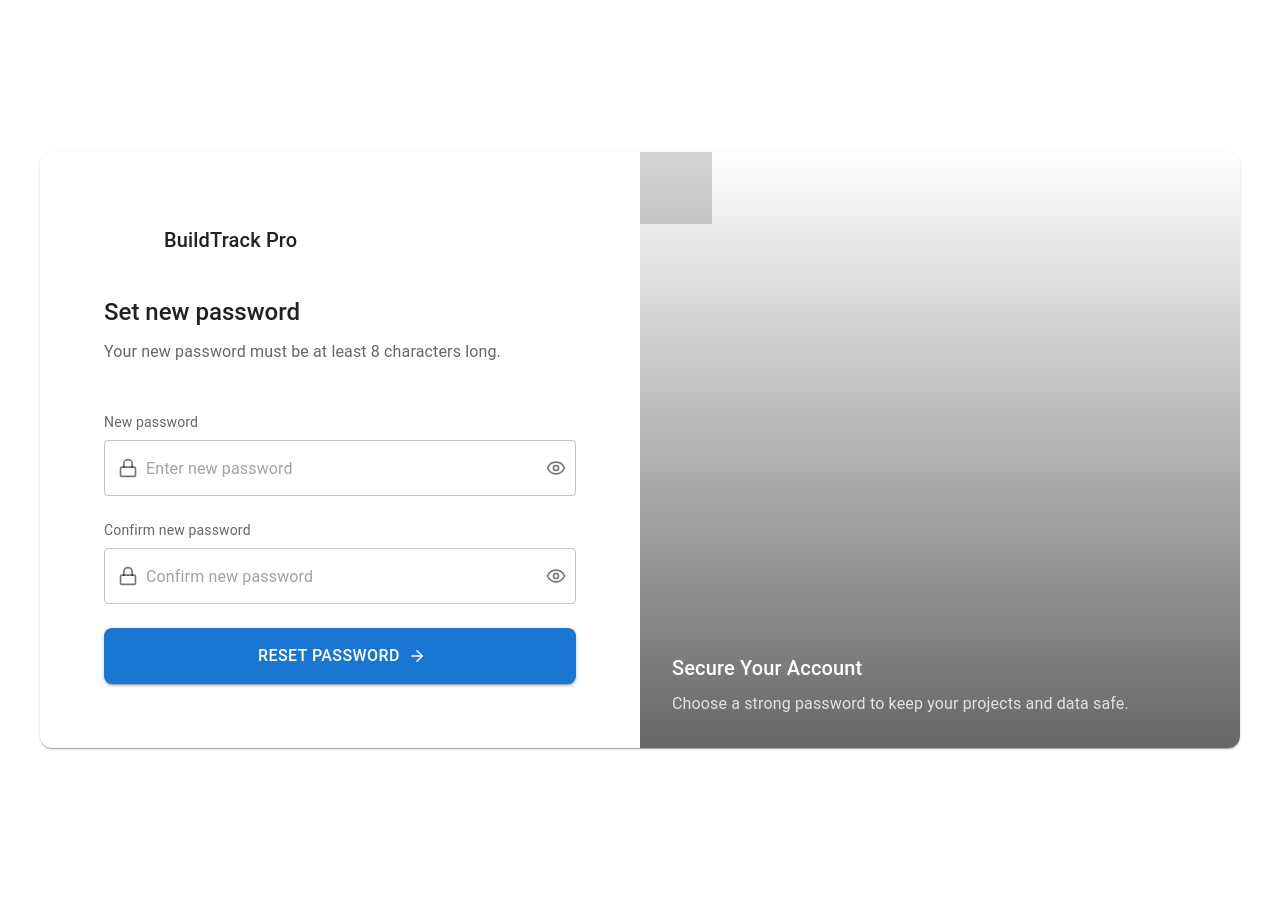
Test: ResetPasswordPage › displays API error message on failure
Type "newpassword123" into the password field labelled "Enter new password" at point(338, 468), box top-left (146, 440), bottom-right (530, 496)
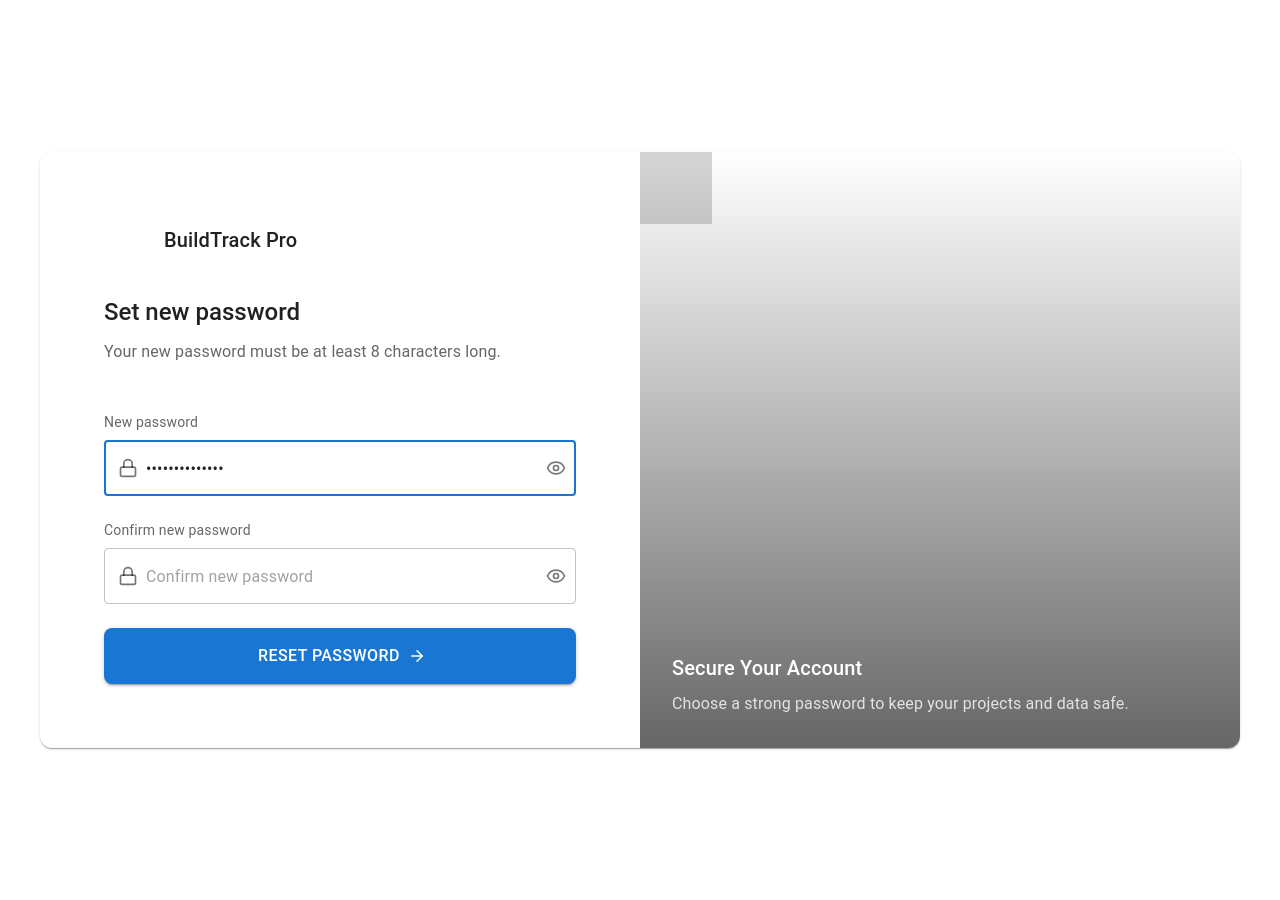
Type "newpassword123" into the password field labelled "Confirm new password" at point(338, 576), box top-left (146, 548), bottom-right (530, 604)
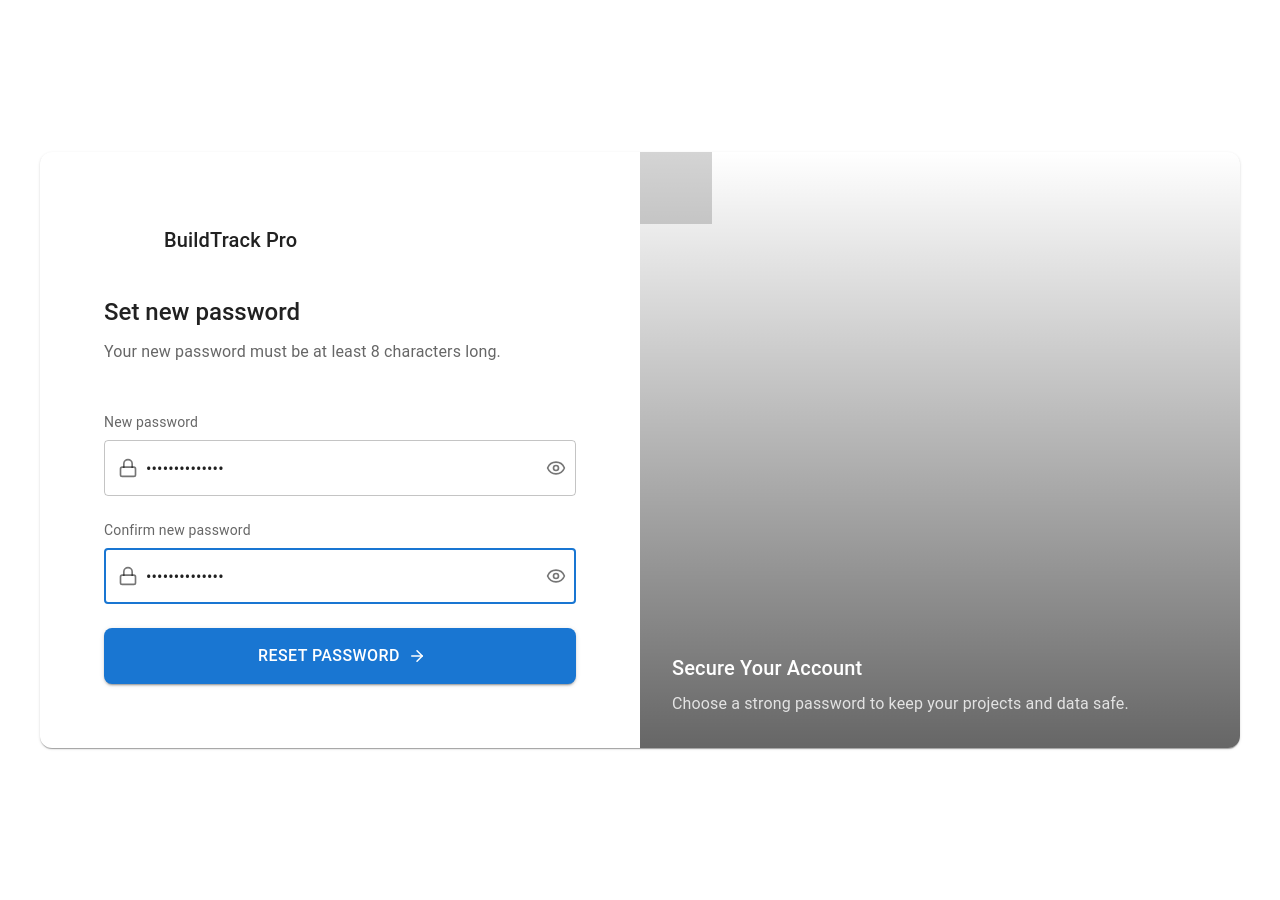
Click the button "Reset password" at point(340, 656), box top-left (104, 628), bottom-right (576, 684)
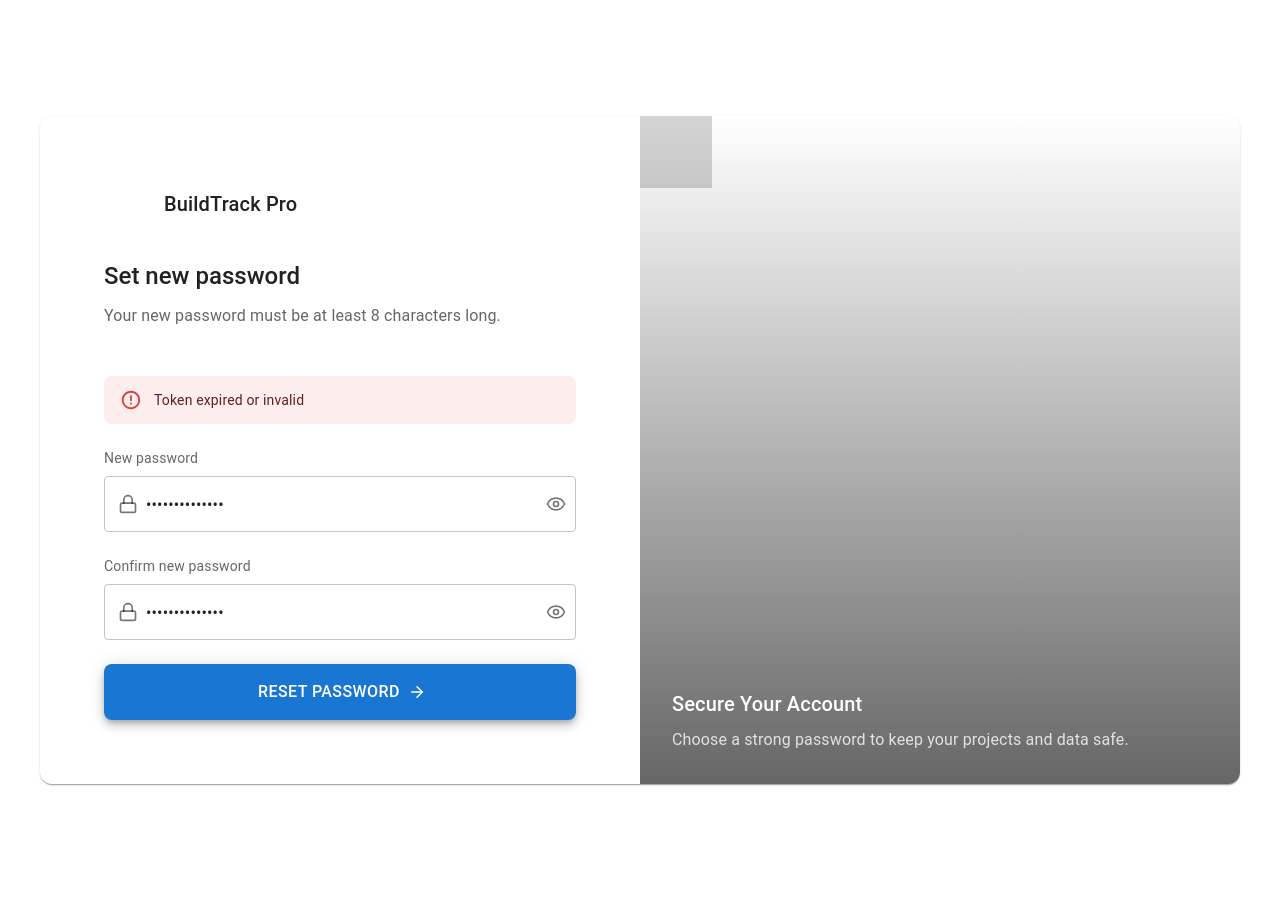
Now the text "Token expired or invalid" is shown, box top-left (154, 392), bottom-right (304, 408)
